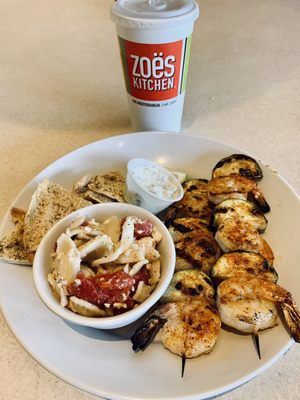pizza: (110, 0, 200, 133)
sushi: (32, 202, 177, 333), (125, 158, 184, 215)
